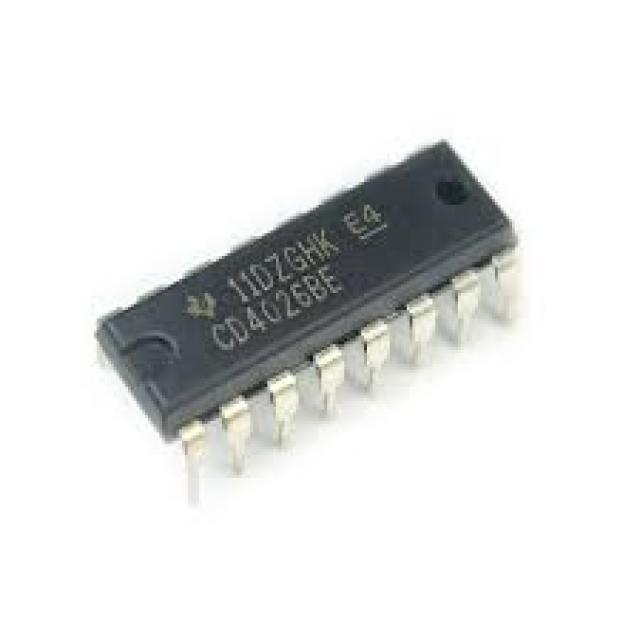IC: (92, 139, 522, 509)
